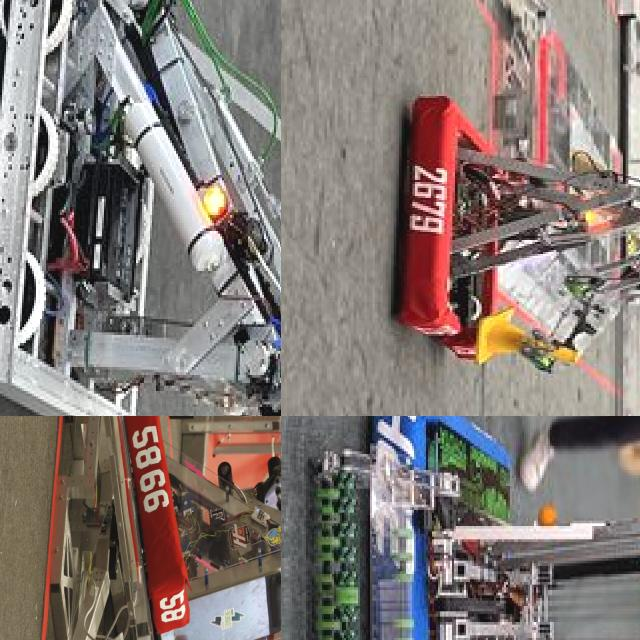FRC-Robots: (0, 0, 281, 416), (285, 416, 640, 640), (412, 92, 640, 414), (114, 416, 281, 640)
